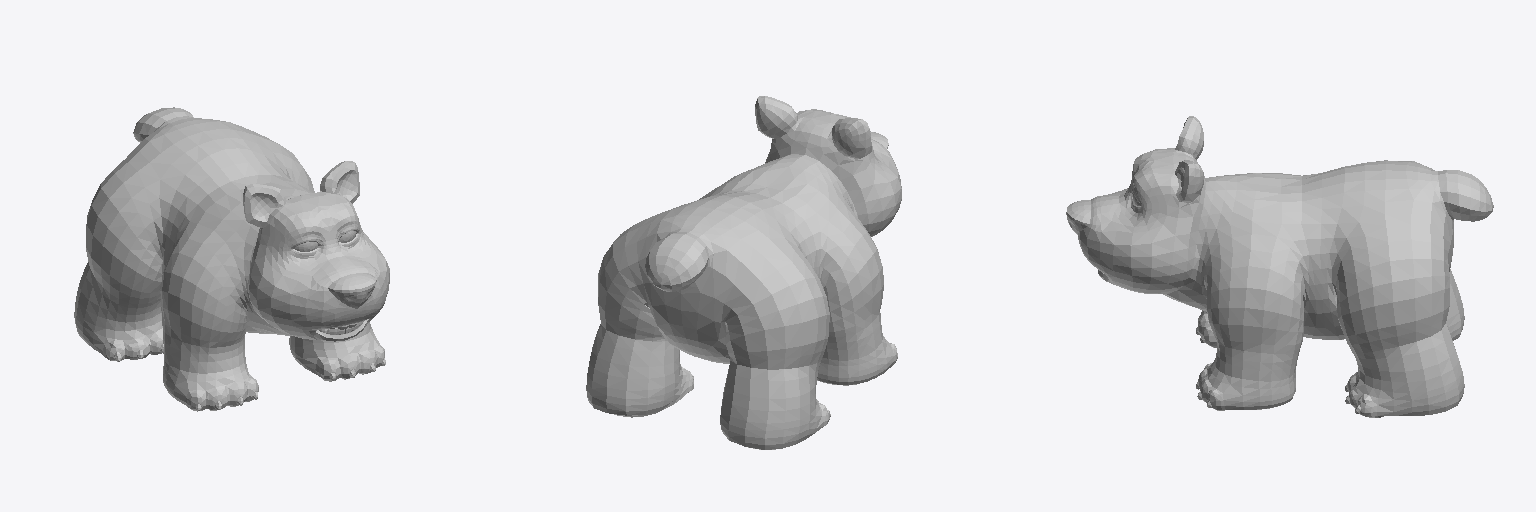
Rendered from Polar.obj.
3 renders of one model, left to right at view 1: azimuth 30°, elevation 25°; view 2: azimuth 150°, elevation 25°; view 3: azimuth 270°, elevation 25°, orthographic.
Visible parts, largest first — view 1: Polar; view 2: Polar; view 3: Polar.
Part boxes in pixels (left/top/right/bottom): Polar: left=74, top=107, right=389, bottom=411; Polar: left=586, top=96, right=901, bottom=449; Polar: left=1066, top=116, right=1493, bottom=417.
Size of the model in its own units: 67.15 by 68.96 by 116.